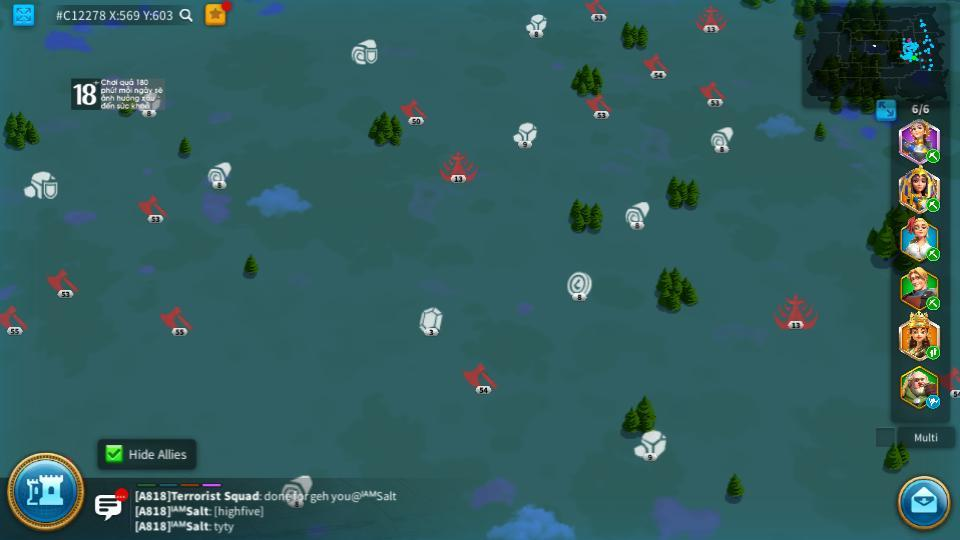gem-z-out: (419, 307, 444, 335)
march_farming: (925, 197, 941, 212), (926, 249, 940, 261)
march_idle: (925, 396, 942, 408)
march_marching: (925, 345, 941, 359), (925, 150, 942, 162), (925, 297, 942, 308)
